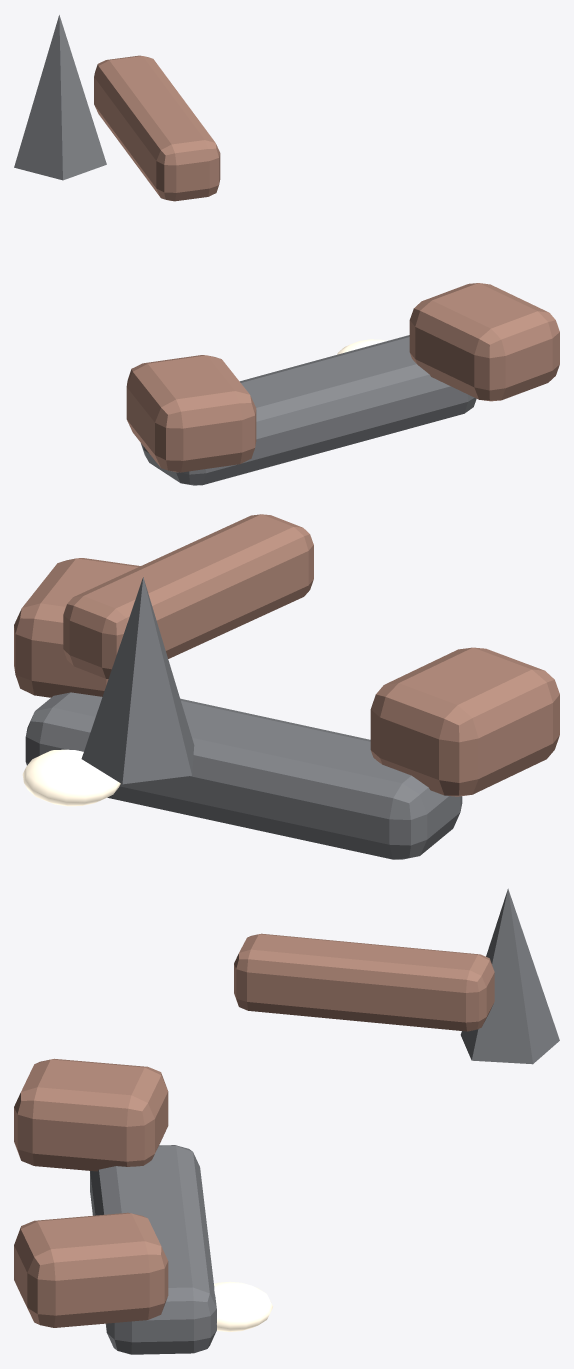
File: hero_02_detail.glb
The picture shows the model from 3 angles, top to bottom: view 1: azimuth 30°, elevation 25°; view 2: azimuth 150°, elevation 25°; view 3: azimuth 270°, elevation 25°; orthographic projection. The views are drawn at different scales.
Parts seen in each view (by area): view 1: Bran_AshVisor, Bran_CheekGuard_1, Bran_CheekGuard_-1, Bran_BrokenBladeBase, Bran_BladeTip; view 2: Bran_AshVisor, Bran_CheekGuard_-1, Bran_BrokenBladeBase, Bran_BladeTip, Bran_CheekGuard_1, Bran_AshGem; view 3: Bran_BrokenBladeBase, Bran_CheekGuard_1, Bran_CheekGuard_-1, Bran_AshVisor, Bran_BladeTip, Bran_AshGem.
Boxes of the visible parts, bbox=[...] form: Bran_AshVisor: bbox=[141, 335, 476, 485]; Bran_CheekGuard_1: bbox=[409, 283, 559, 401]; Bran_CheekGuard_-1: bbox=[126, 355, 256, 472]; Bran_BrokenBladeBase: bbox=[94, 55, 220, 201]; Bran_BladeTip: bbox=[14, 15, 106, 180]; Bran_AshVisor: bbox=[25, 692, 462, 859]; Bran_CheekGuard_-1: bbox=[370, 647, 559, 796]; Bran_BrokenBladeBase: bbox=[63, 514, 313, 678]; Bran_BladeTip: bbox=[81, 577, 194, 784]; Bran_CheekGuard_1: bbox=[14, 558, 140, 697]; Bran_AshGem: bbox=[22, 749, 120, 806]; Bran_BrokenBladeBase: bbox=[234, 933, 494, 1031]; Bran_CheekGuard_1: bbox=[14, 1212, 168, 1327]; Bran_CheekGuard_-1: bbox=[14, 1058, 168, 1171]; Bran_AshVisor: bbox=[90, 1145, 216, 1354]; Bran_BladeTip: bbox=[460, 888, 559, 1064]; Bran_AshGem: bbox=[214, 1281, 272, 1331].
Bounding box in the file's own units: 0.5175 × 0.4025 × 0.5696.
